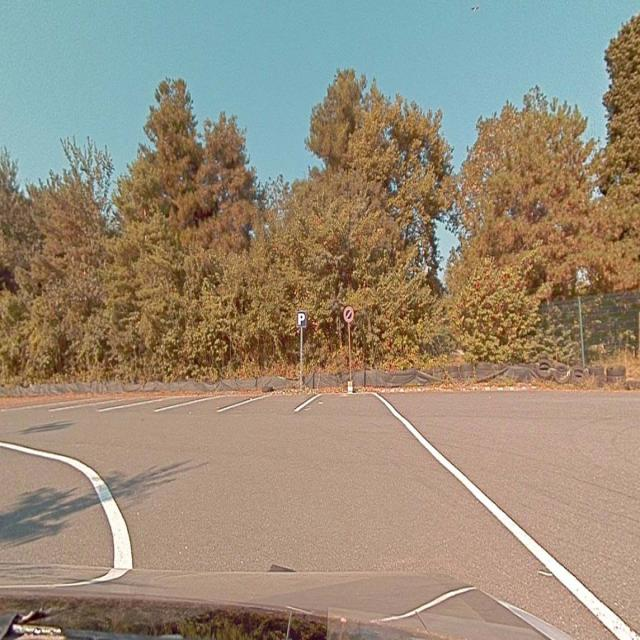park: (297, 312, 307, 328)
parkyasak: (344, 306, 354, 322)
